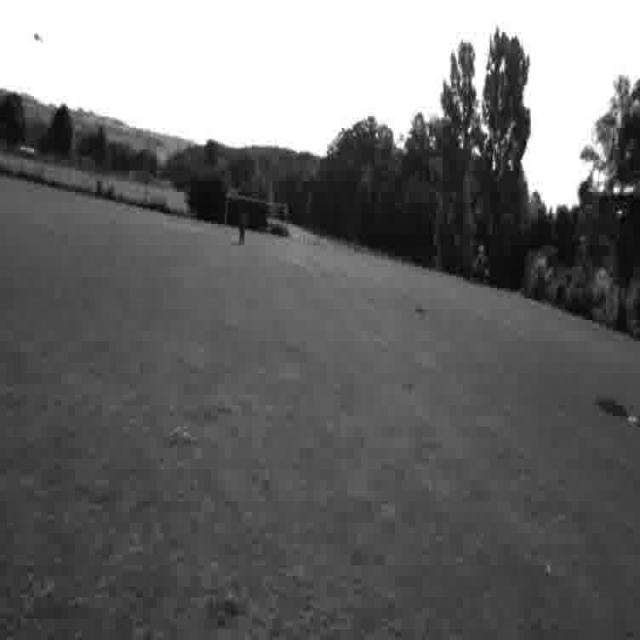drones: (26, 25, 45, 48)
